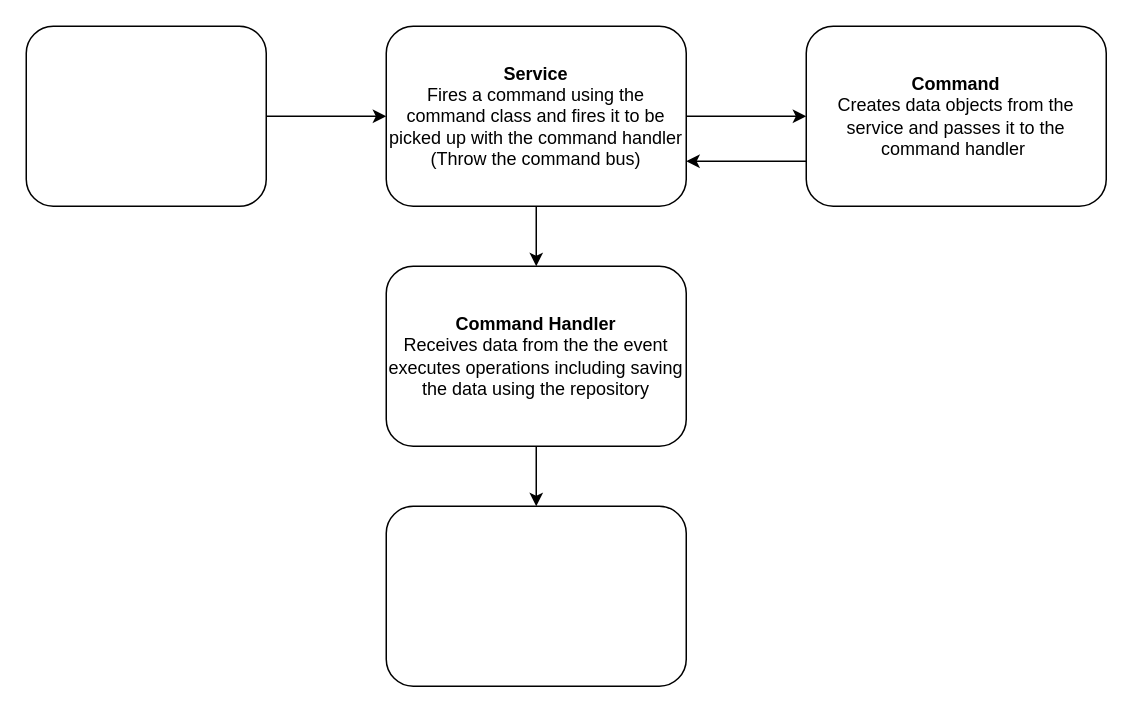
This 1133x713 diagram has some shape labels left out. The centre of each missing label's shape, as x and y in pixels:
"Controller Listenes to endpoint (write requests)" belongs at point (145, 115).
"Repository Saves data from the command to the designated database" belongs at point (535, 595).
